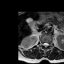CCS_normal: (44, 40, 46, 49)
LFS_normal: (48, 41, 50, 47)
LLS_normal: (46, 40, 48, 48)
RFS_normal: (41, 40, 43, 48)
RLS_normal: (43, 40, 44, 48)
